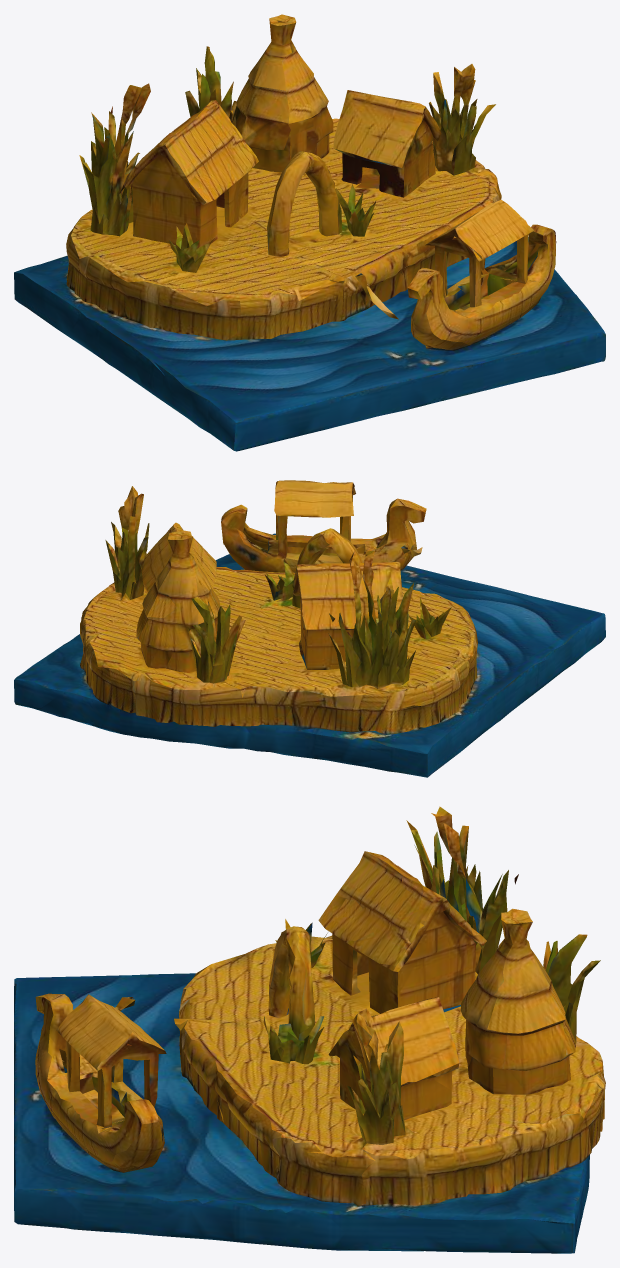
Rendered from uros-islands.glb.
3 views of the same model, one above another, from view 1: azimuth 30°, elevation 25°; view 2: azimuth 150°, elevation 25°; view 3: azimuth 270°, elevation 25° (orthographic). The views are drawn at different scales.
Parts seen in each view (by area): view 1: logan-textured.obj; view 2: logan-textured.obj; view 3: logan-textured.obj.
Boxes of the visible parts, x1,y1,x2,y2 form: logan-textured.obj: (14,14,605,451); logan-textured.obj: (14,480,605,777); logan-textured.obj: (14,806,605,1253).
Size of the model in its own units: 0.9906 by 0.4734 by 1.
Materials: 1 (1 with a texture image).
